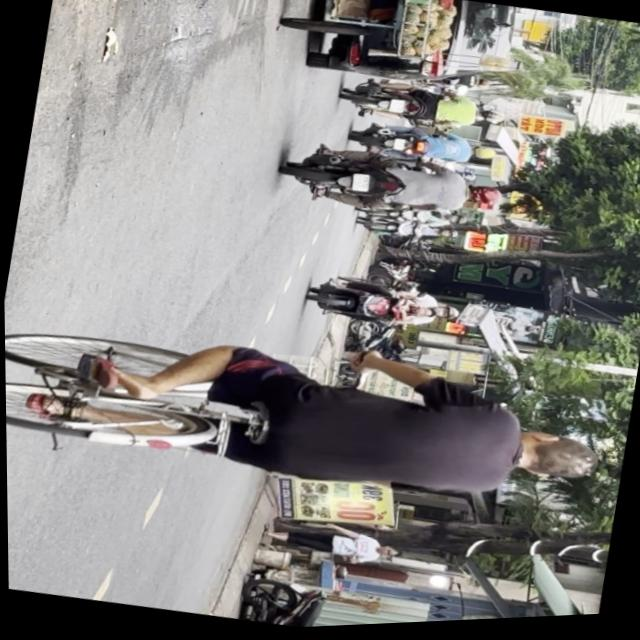helmet: (463, 188, 502, 215)
licenseplate: (275, 134, 507, 240)
nohelmet: (349, 176, 369, 196)
